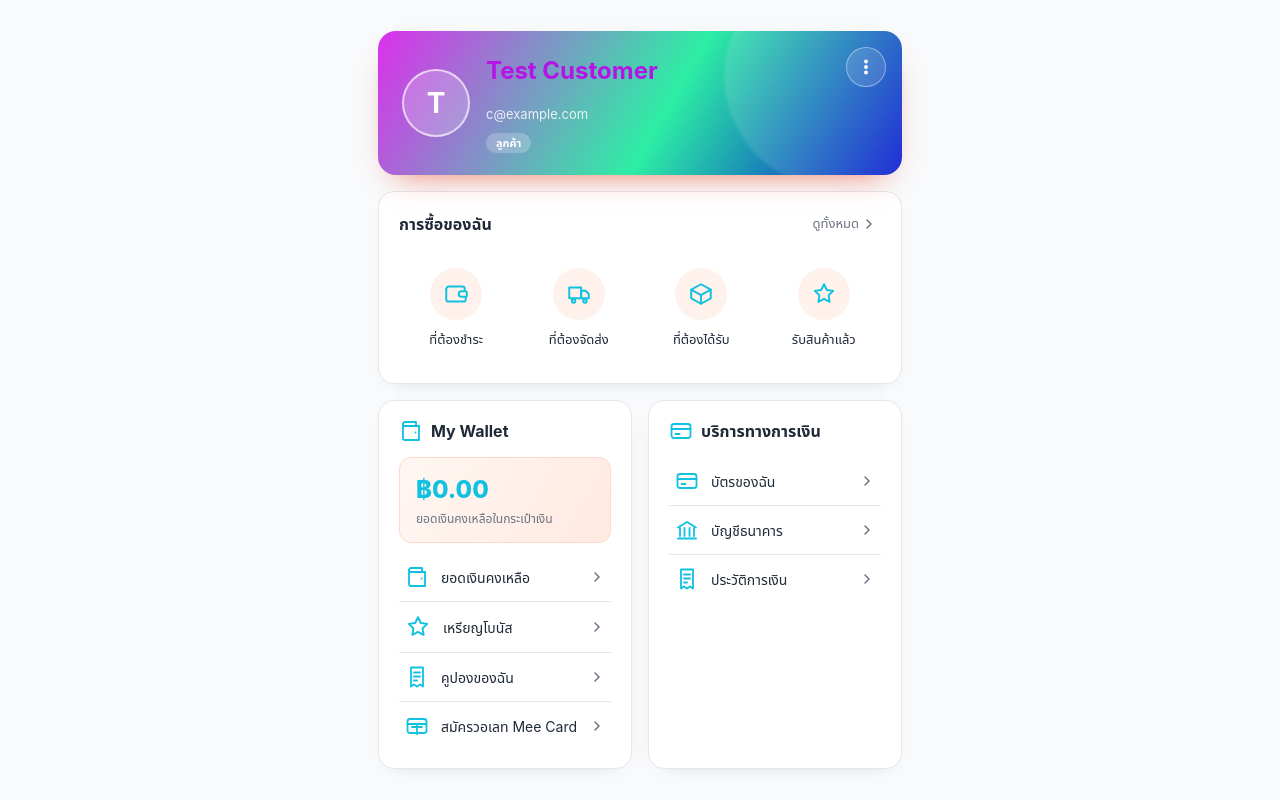
it: Account -> Order Modal -> KBZPay Popup integration › แสดงยอด Order แต่ละรายการเป็น MMK (ยอดที่บันทึกตอนสร้าง) ไม่ใช่ THB
Click the button "ที่ต้องชำระ".
click(456, 308)  # box x1=399 y1=252 x2=514 y2=365
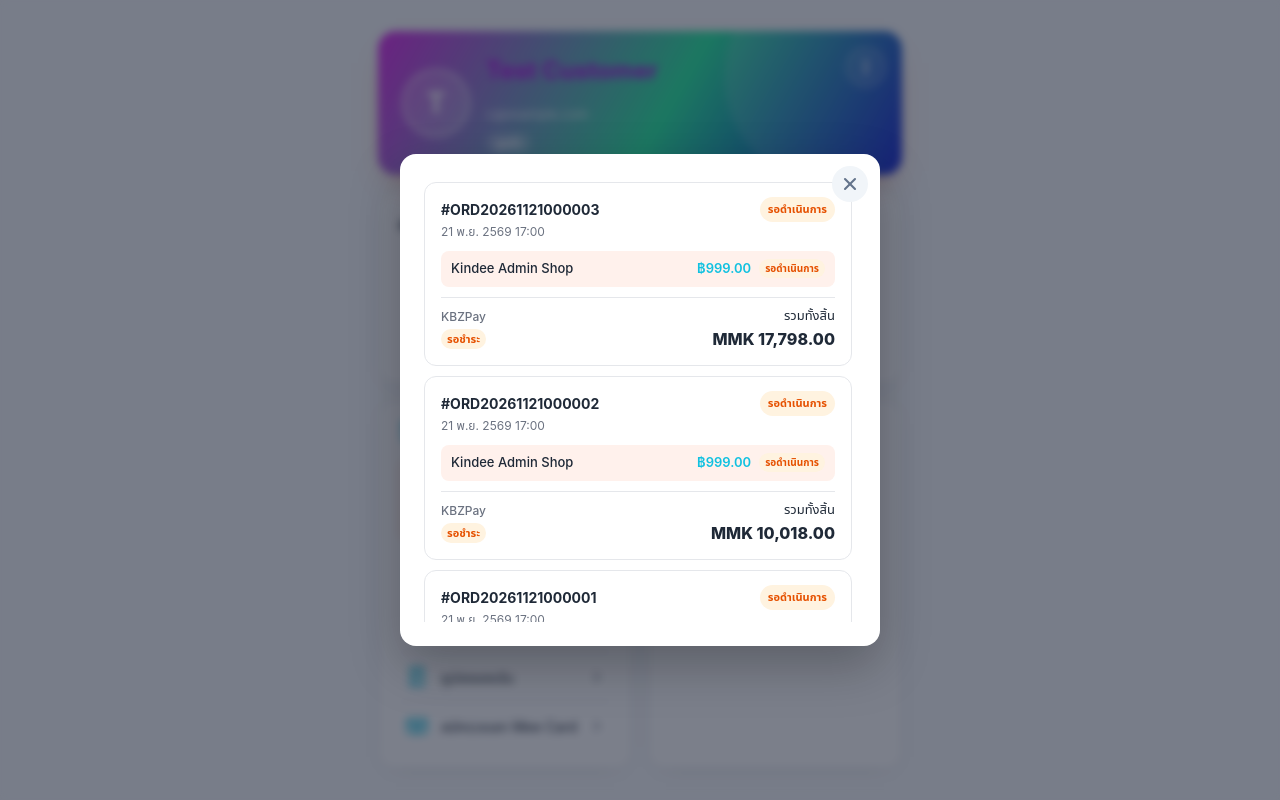
Expected: the text "MMK 17,798.00" is shown, x1=712 y1=327 x2=835 y2=351
Expected: the text "MMK 10,018.00" is shown, x1=711 y1=521 x2=835 y2=545
Expected: the element with class "modal-container" shows "17,798", x1=712 y1=329 x2=835 y2=349
